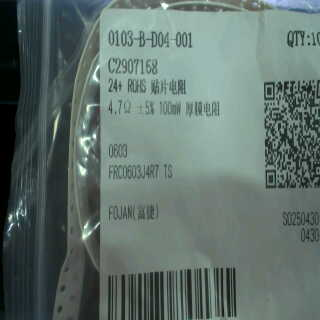4.7R: (104, 98, 135, 117)
